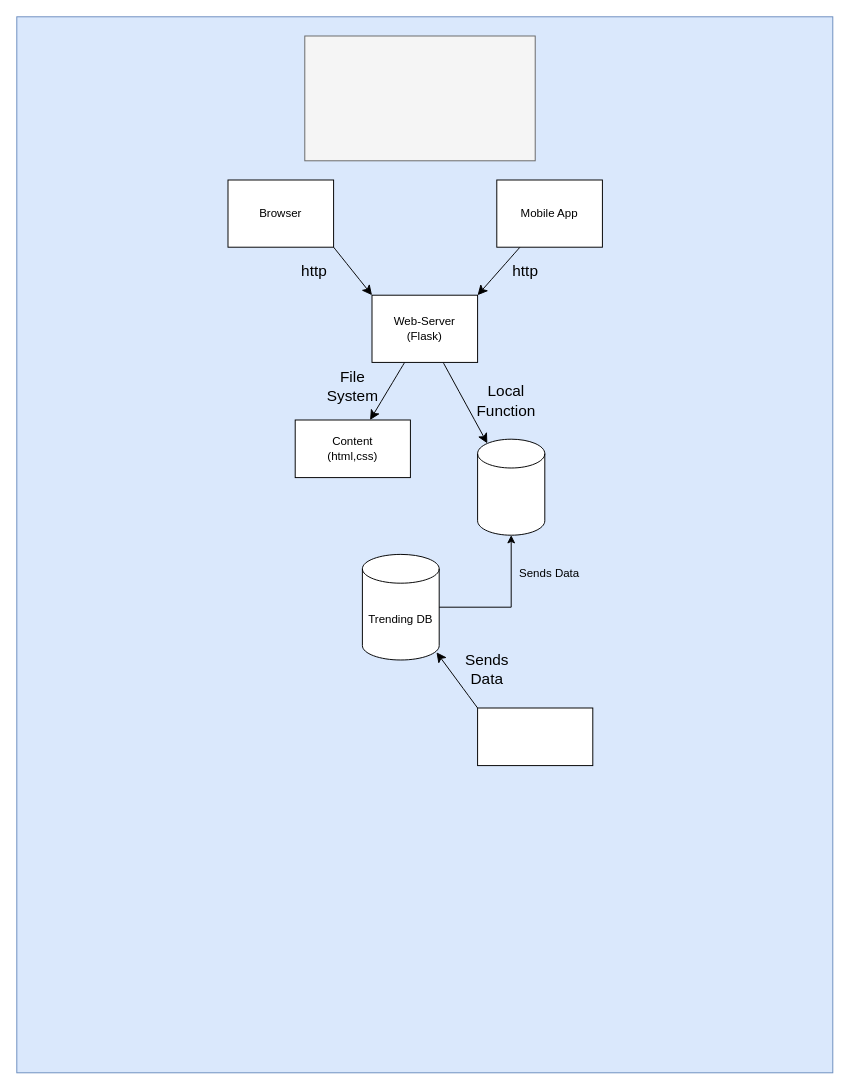
The diagram is 850 pixels wide and 1090 high, and some of its shapes have lost their labels. Here are the shapes that lost their labels. From the top down, the centre of each, then its label:
At point (419, 98): "Component Diagram Cadence Group".
At point (511, 486): "tinyDB".
At point (535, 736): "Google Trending Data".
